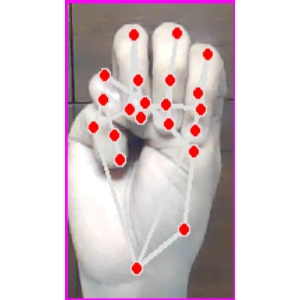M: (68, 2, 233, 300)
